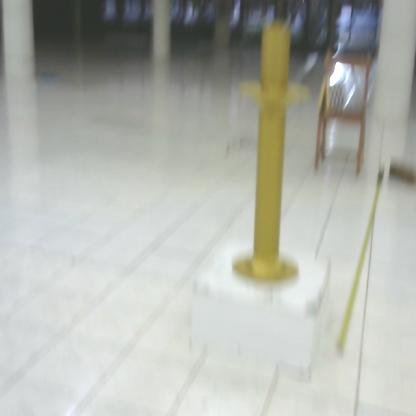pole: (229, 18, 315, 286)
